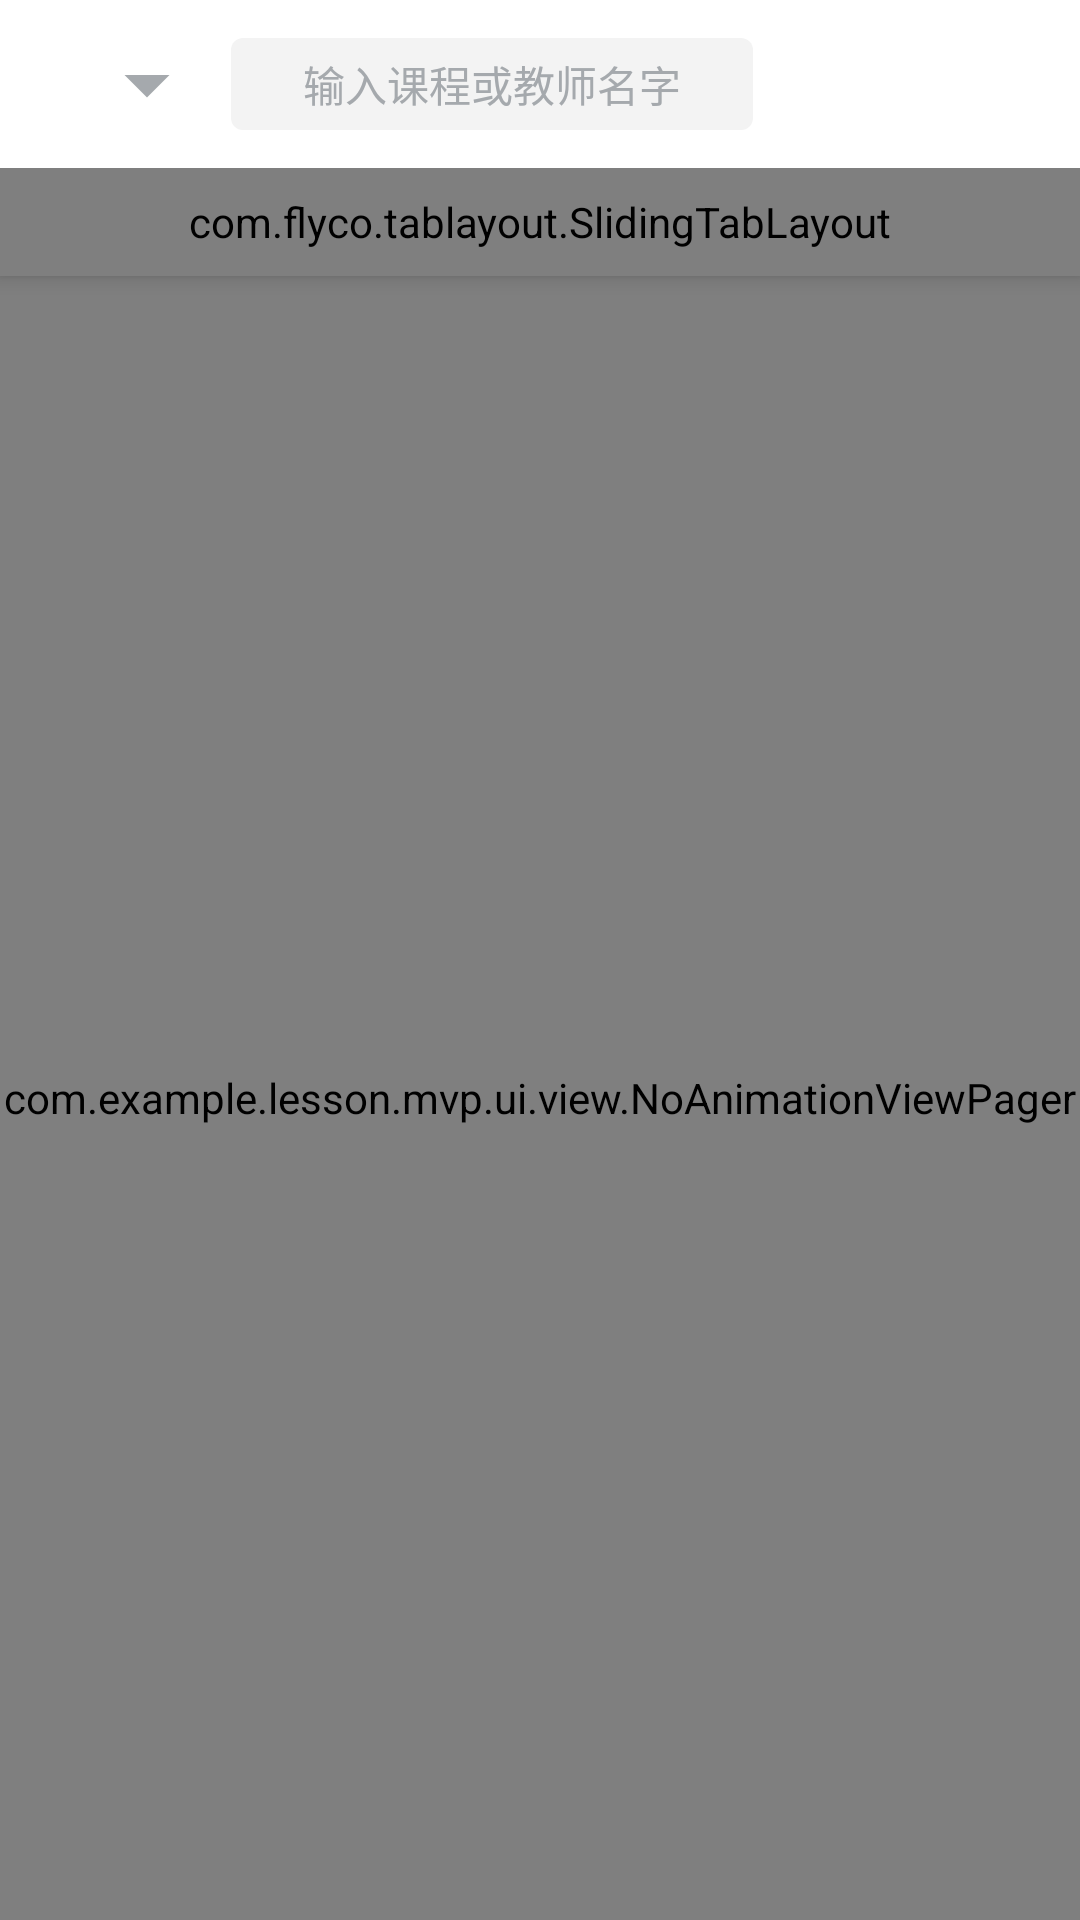

Named icons in this screenshot (1080*1920) and their centers, point (x, y):
down: point (147, 86)
